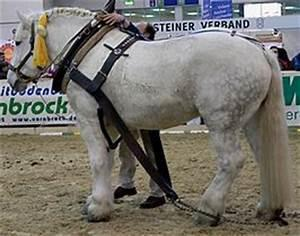horse: (6, 1, 291, 227)
